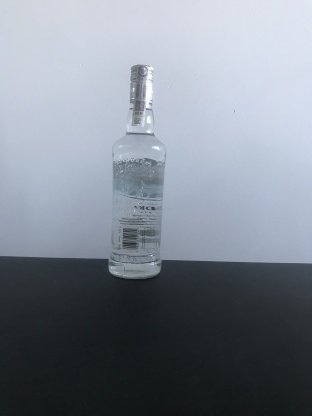nakretka: (128, 61, 155, 107)
